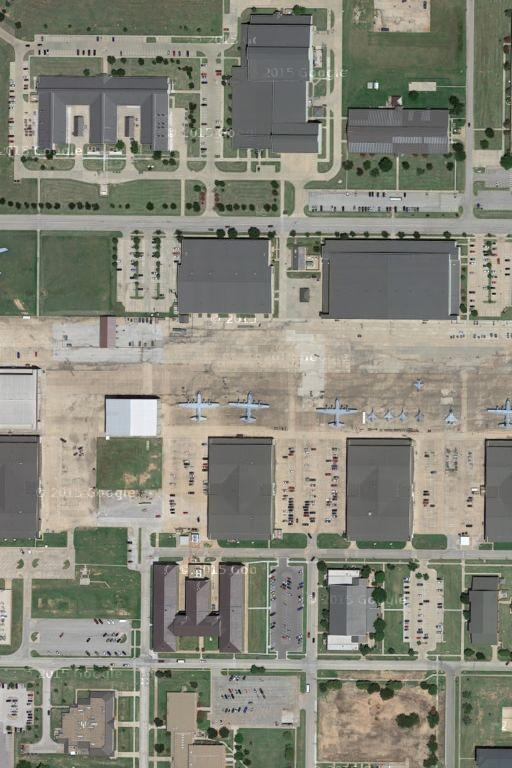C-130: (222, 390, 273, 425), (312, 398, 364, 431), (172, 391, 221, 424)
